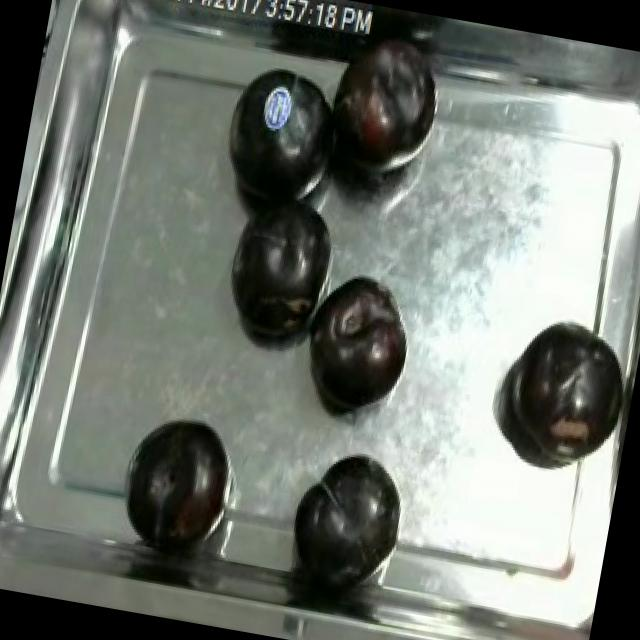Fruit: (486, 309, 631, 483), (214, 170, 344, 350), (208, 55, 345, 217), (278, 438, 420, 593), (292, 261, 421, 429), (322, 16, 450, 184), (115, 402, 249, 558)
